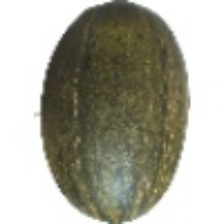honeydew: (36, 21, 175, 161)
